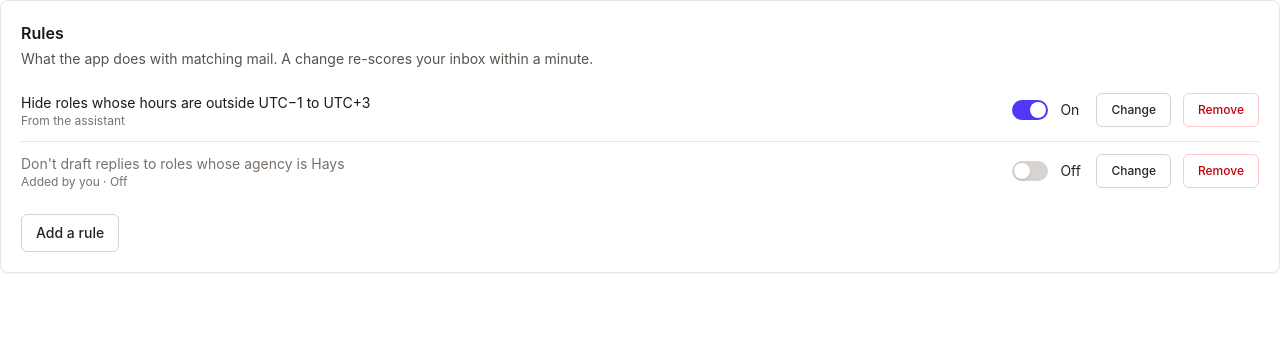
Test case: RulesList › names the switch by its rule and shows On or Off as the rule is
expect the text "On" is shown: met, box [1060,101,1079,118]
expect the text "Off" is shown: met, box [1060,161,1084,181]
Click the switch in the row of "From the assistant": (1030, 110) [1012,100,1048,120]
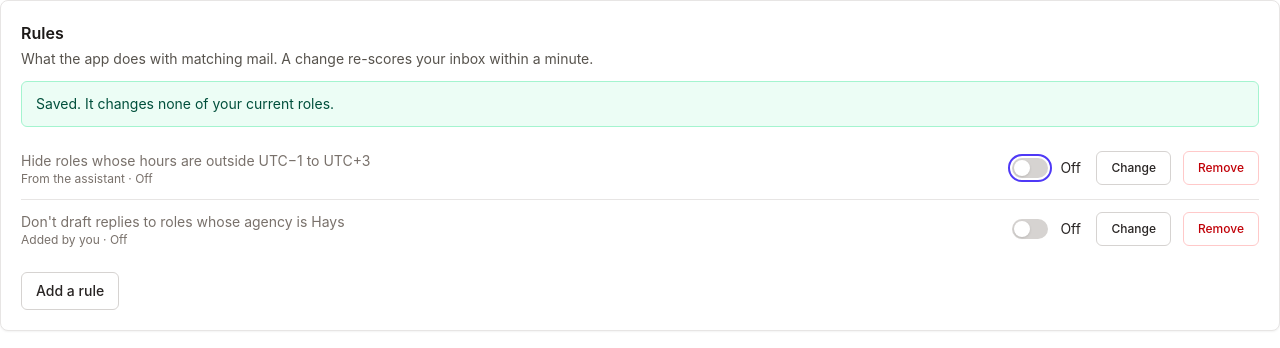
expect the text "Off" in the row of "From the assistant" is shown: met, box [1060,159,1081,176]
